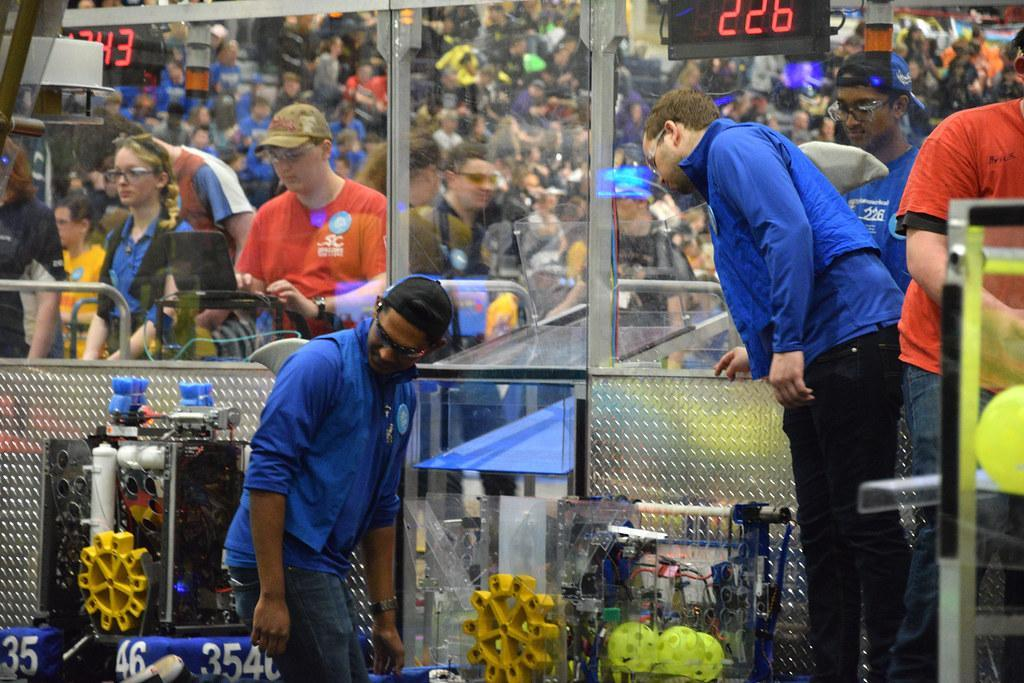robot: (0, 365, 380, 683), (354, 489, 826, 683)
